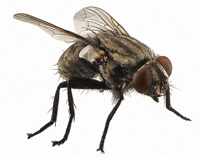fly: (11, 4, 195, 158)
